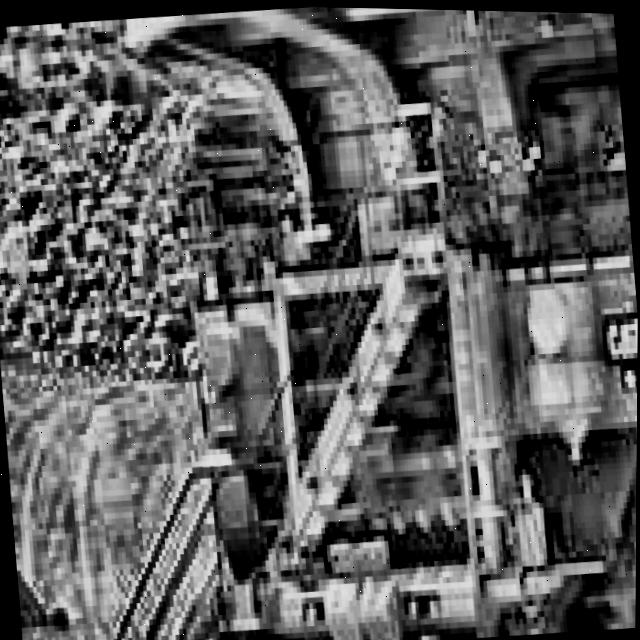dump_truck: (97, 2, 640, 640)
